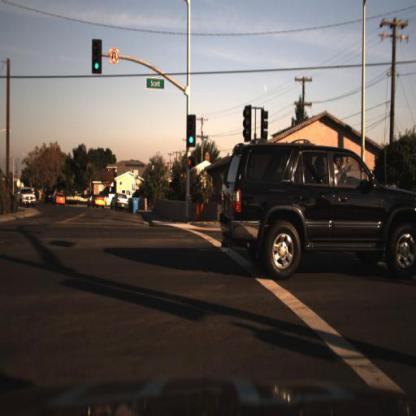car: (220, 142, 416, 282), (110, 192, 132, 216), (16, 184, 37, 209), (86, 193, 107, 214), (89, 193, 107, 214), (112, 195, 130, 212), (44, 188, 58, 209), (54, 191, 68, 207), (56, 193, 69, 210)
trafficLight-Green: (91, 36, 103, 76), (186, 113, 196, 149)
